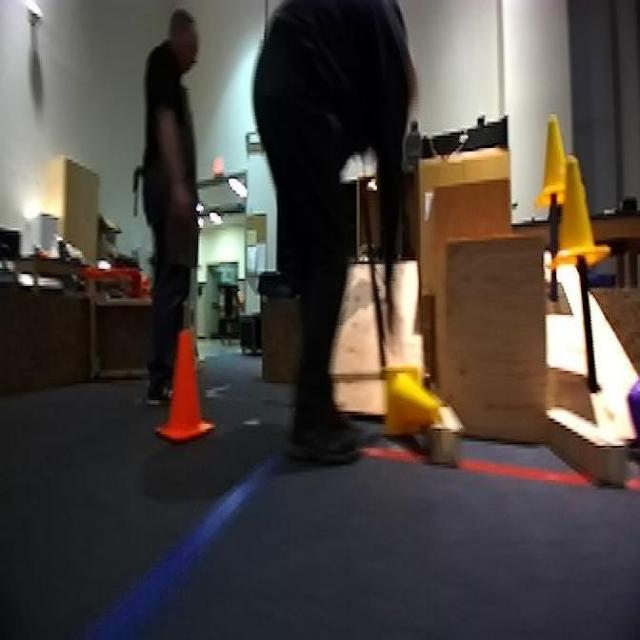frc_cone: (554, 145, 601, 272), (381, 370, 440, 432), (539, 116, 575, 202)
frc_cube: (625, 354, 640, 476)
